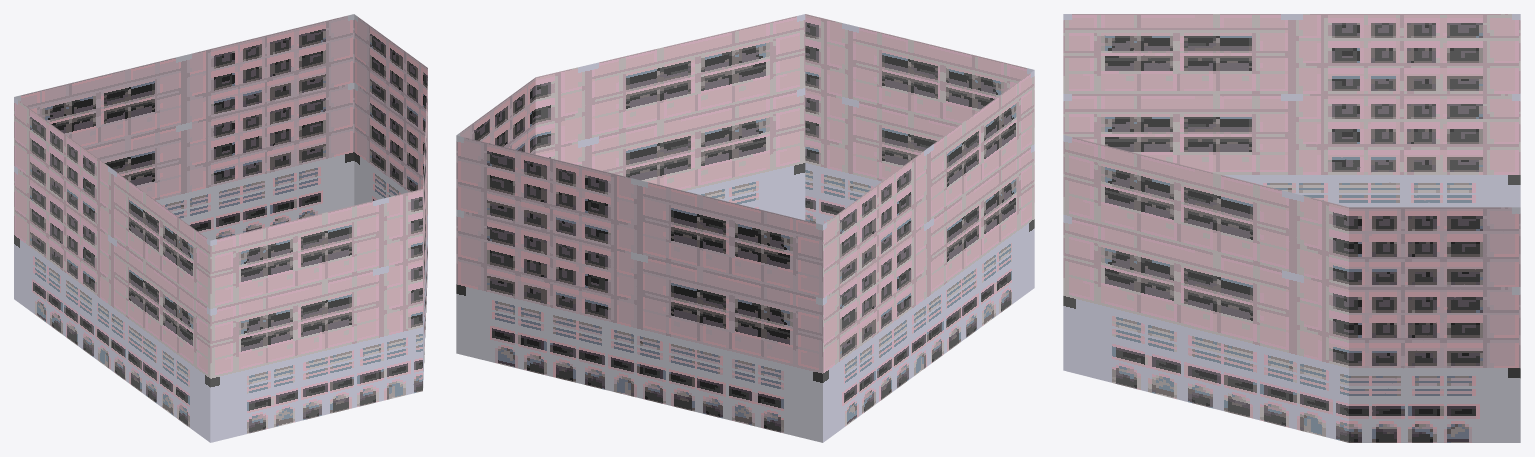
The picture shows the model from 3 angles, left to right: view 1: azimuth 30°, elevation 25°; view 2: azimuth 150°, elevation 25°; view 3: azimuth 270°, elevation 25°; orthographic projection. The views are drawn at different scales.
Parts seen in each view (by area): view 1: obj-106; view 2: obj-106; view 3: obj-106.
Part boxes in pixels (<box>): obj-106: <box>14,14,427,442</box>; obj-106: <box>456,14,1034,442</box>; obj-106: <box>1063,14,1520,442</box>.
Bounding box in the file's own units: 3.69 × 2.09 × 3.69.
Materials: 1 (1 with a texture image).
